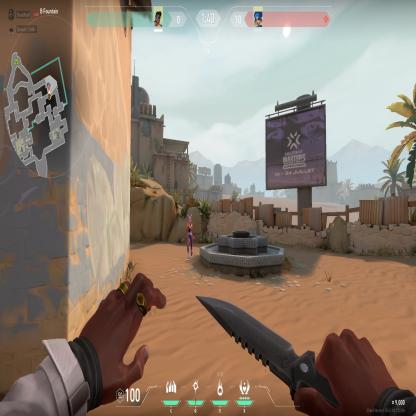enemy: (185, 212, 194, 262)
